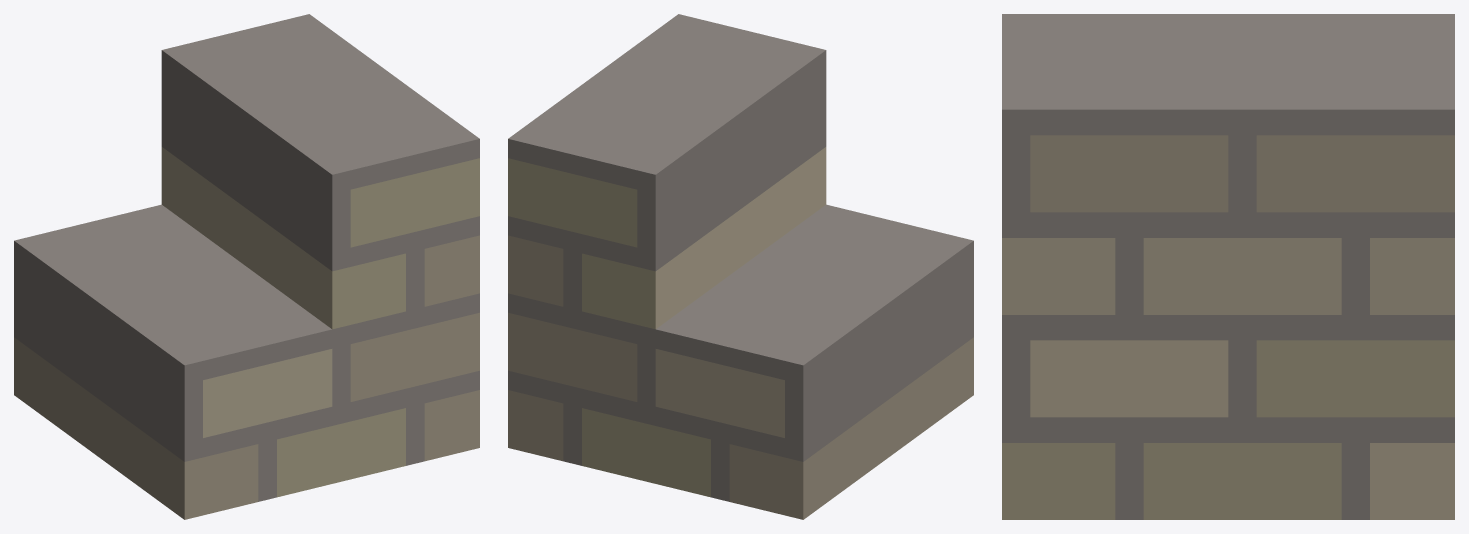
File: brick-yellow.stairs-2.glb
The picture shows the model from 3 angles, left to right: view 1: azimuth 30°, elevation 25°; view 2: azimuth 150°, elevation 25°; view 3: azimuth 270°, elevation 25°; orthographic projection. The views are drawn at different scales.
Size of the model in its own units: 1 by 1 by 1.
